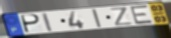4: (67, 10, 87, 30)
E: (129, 5, 154, 26)
I: (41, 12, 55, 33), (91, 8, 104, 28)
P: (20, 13, 42, 34)
Z: (109, 6, 135, 27)
